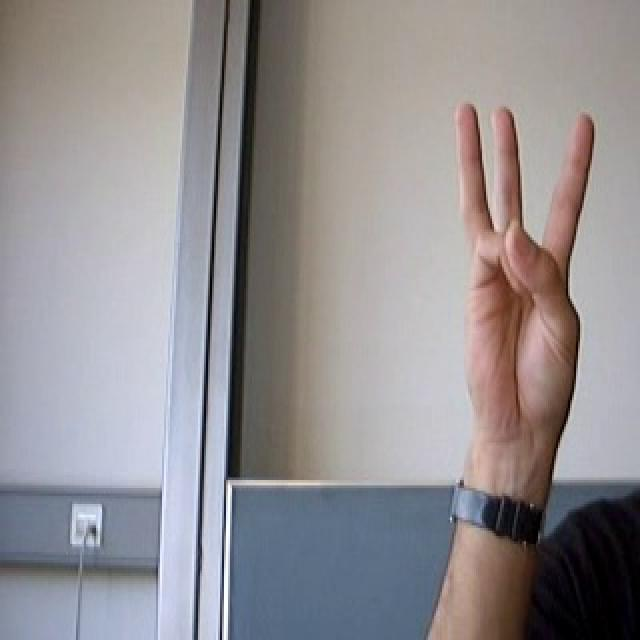W: (444, 103, 611, 452)
